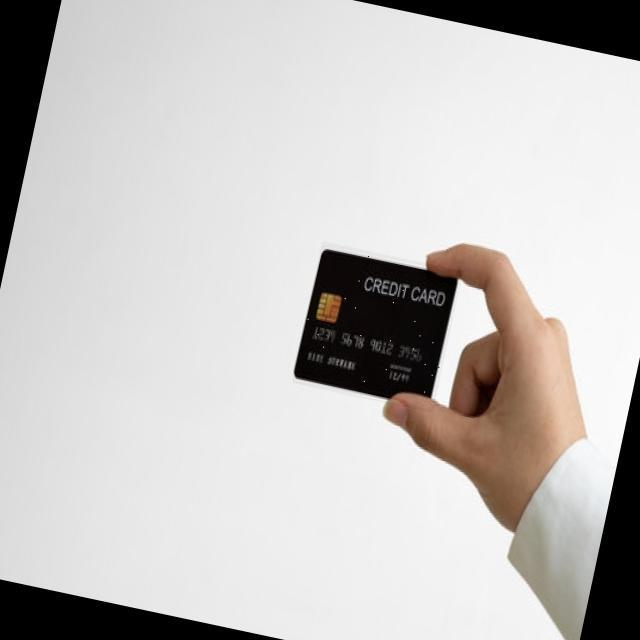payment_card: (292, 247, 458, 402)
